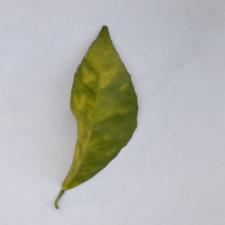Greening: (40, 18, 152, 187)
